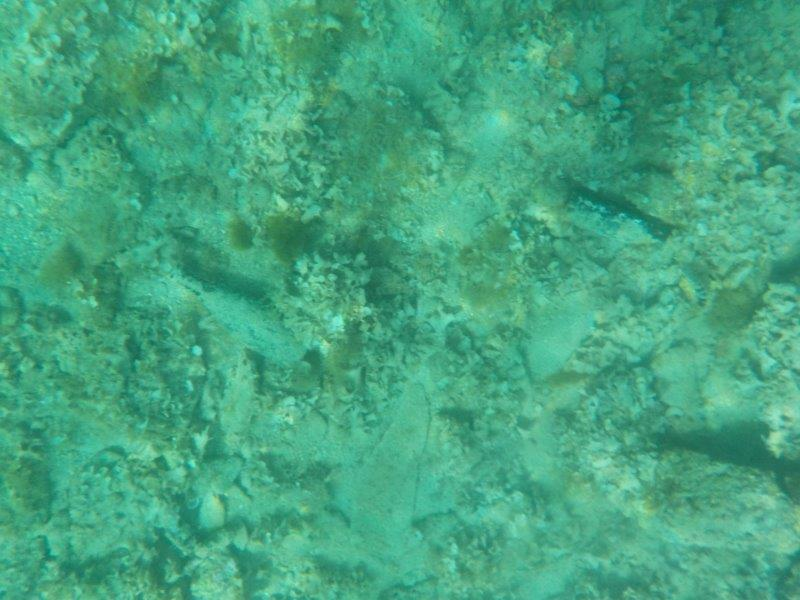bottle: (160, 261, 315, 369)
